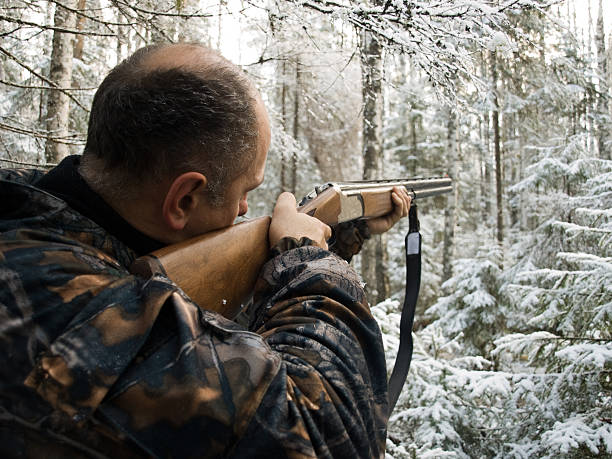gun: (131, 178, 454, 324)
